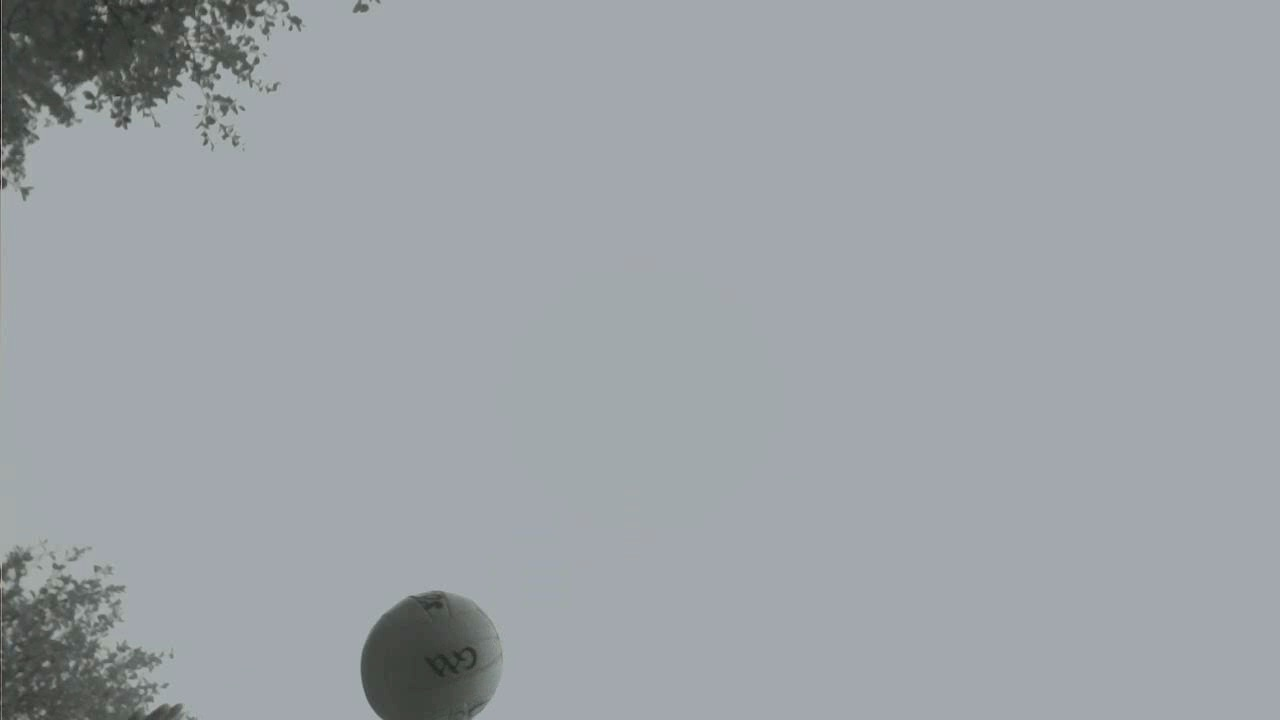Football-Spotter: (362, 591, 502, 719)
